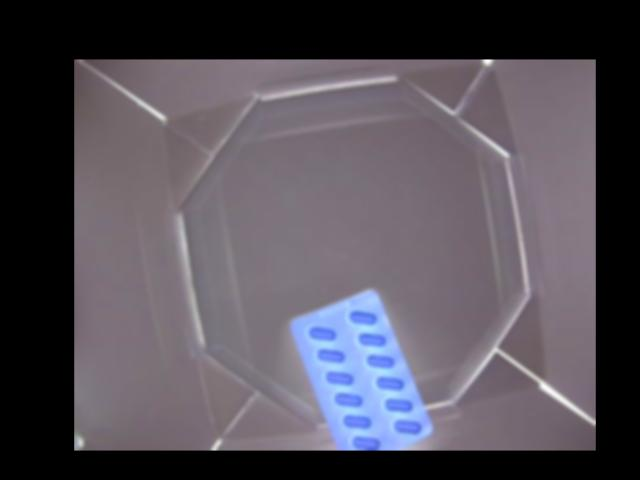Medicine: (288, 291, 432, 450)
